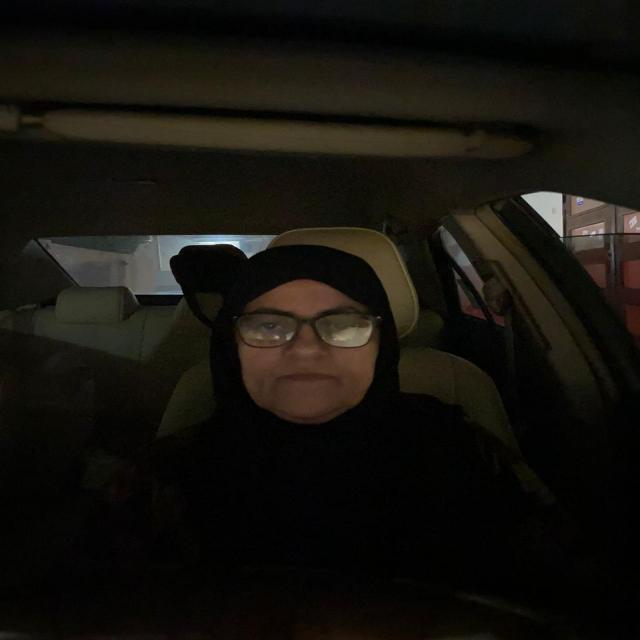person: (212, 259, 393, 423)
